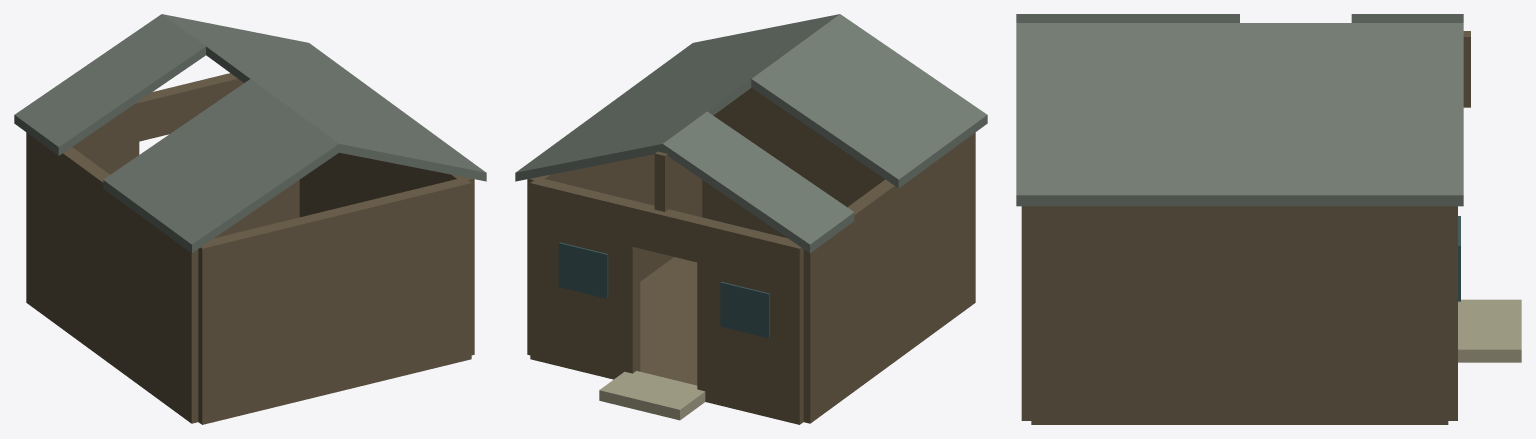
The model's file is ua_barn.obj.
3 views of the same model, side by side, from view 1: azimuth 30°, elevation 25°; view 2: azimuth 150°, elevation 25°; view 3: azimuth 270°, elevation 25° (orthographic). The views are drawn at different scales.
Parts seen in each view (by area): view 1: ua_barn; view 2: ua_barn; view 3: ua_barn.
Part boxes in pixels (left/top/right/bottom): ua_barn: left=14, top=14, right=486, bottom=424; ua_barn: left=515, top=14, right=987, bottom=424; ua_barn: left=1016, top=14, right=1521, bottom=424.
Bounding box in the file's own units: 3.5 × 2.84 × 4.12.
